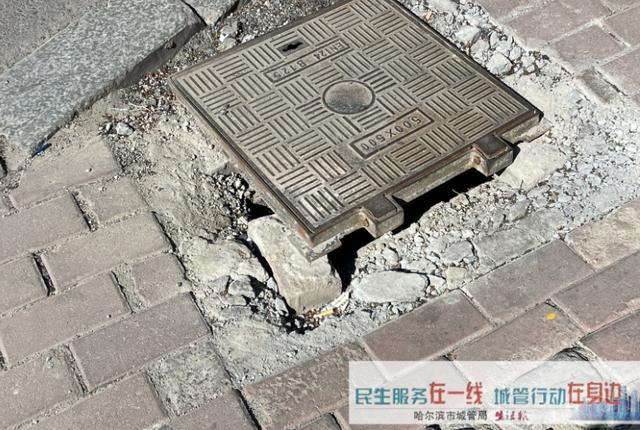circle: (103, 7, 634, 343)
